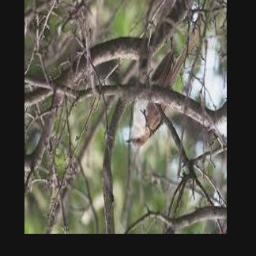Cuckoo: (126, 26, 203, 148)
